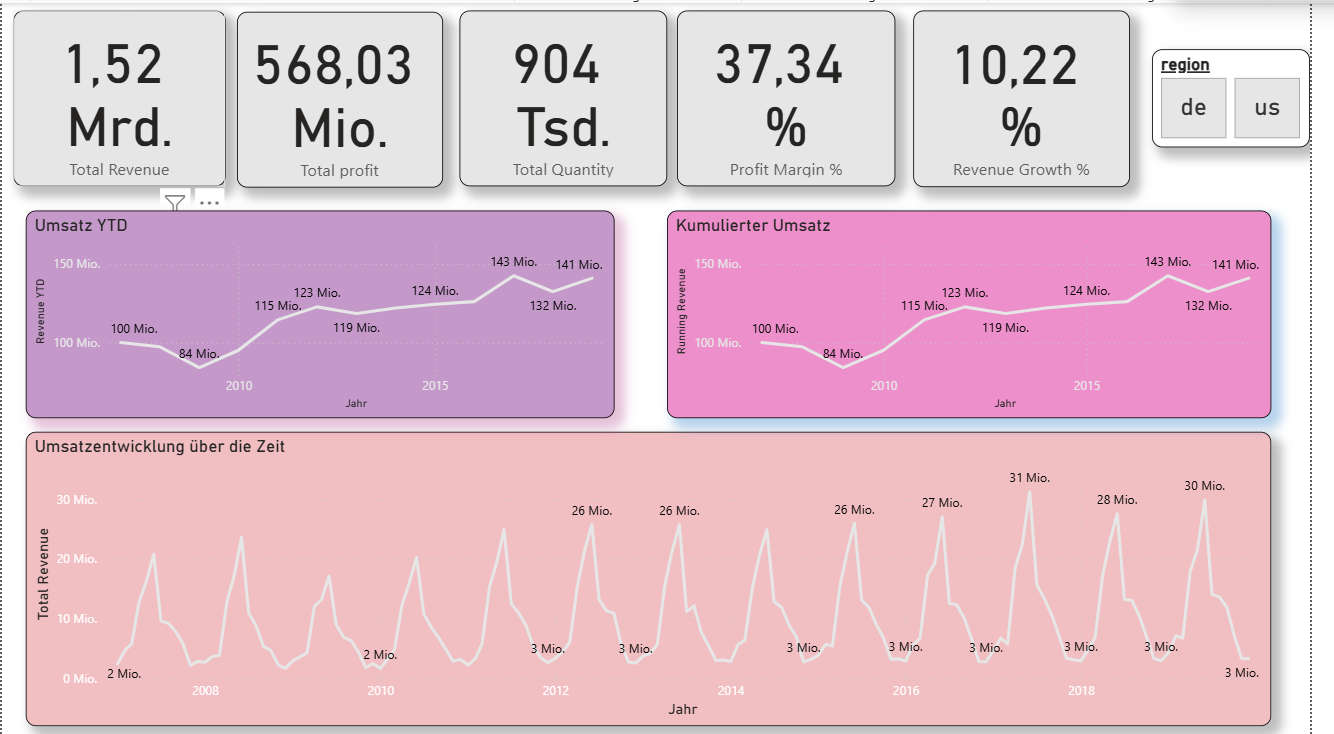

The dashboard page shown, as its layout file describes it:
{"tool":"powerbi","page":{"name":"Overview","canvas":[1280,720],"ordinal":0},"visuals":[{"type":"card","fields":{"Values":["fact_sales_star.Total Revenue"]},"box":[10.7,7.8,208.1,172.2],"z":0},{"type":"card","fields":{"Values":["fact_sales_star.profit"]},"box":[229.5,8.8,201.3,172.2],"z":1000},{"type":"card","fields":{"Values":["fact_sales_star.Total Quantity"]},"box":[447.4,7.8,203.3,172.2],"z":2000},{"type":"advancedSlicerVisual","fields":{"Values":["fact_sales_star.region"]},"box":[1125.3,45.7,154.7,96.3],"z":3000},{"type":"lineChart","title":"Umsatzentwicklung über die Zeit","fields":{"Y":["fact_sales_star.Total Revenue"],"Category":["dim_date.sales_date.Variation.Datumshierarchie.Jahr","dim_date.sales_date.Variation.Datumshierarchie.Monat"]},"box":[23.3,419.9,1218.5,288.2],"z":4000},{"type":"lineChart","title":"Kumulierter Umsatz","fields":{"Category":["dim_date.sales_date.Variation.Datumshierarchie.Jahr","dim_date.sales_date.Variation.Datumshierarchie.Monat"],"Y":["fact_sales_star.Running Revenue"]},"box":[650.4,203.1,591.4,203.1],"z":5000},{"type":"card","fields":{"Values":["fact_sales_star.Profit Margin %"]},"box":[660.4,7.8,214,172.2],"z":6000},{"type":"card","fields":{"Values":["fact_sales_star.Revenue Growth %"]},"box":[891.9,7.8,212,173.1],"z":7000},{"type":"lineChart","title":"Umsatz YTD","fields":{"Category":["dim_date.sales_date.Variation.Datumshierarchie.Jahr","dim_date.sales_date.Variation.Datumshierarchie.Monat"],"Y":["fact_sales_star.Revenue YTD"]},"box":[23.3,203.1,576.3,203.1],"z":8000}]}

Visuals, with their boxes in screenshot pixels (x1, y1, x2, y2), scaled from the page's 1280x720 canvas onto the 1334x734 screenshot:
card - fact_sales_star.Total Revenue: box=[11, 8, 228, 184]
card - fact_sales_star.profit: box=[239, 9, 449, 185]
card - fact_sales_star.Total Quantity: box=[466, 8, 678, 184]
advancedSlicerVisual - fact_sales_star.region: box=[1173, 47, 1333, 145]
"Umsatzentwicklung über die Zeit" lineChart: box=[24, 428, 1294, 722]
"Kumulierter Umsatz" lineChart: box=[678, 207, 1294, 414]
card - fact_sales_star.Profit Margin %: box=[688, 8, 911, 184]
card - fact_sales_star.Revenue Growth %: box=[930, 8, 1150, 184]
"Umsatz YTD" lineChart: box=[24, 207, 625, 414]
